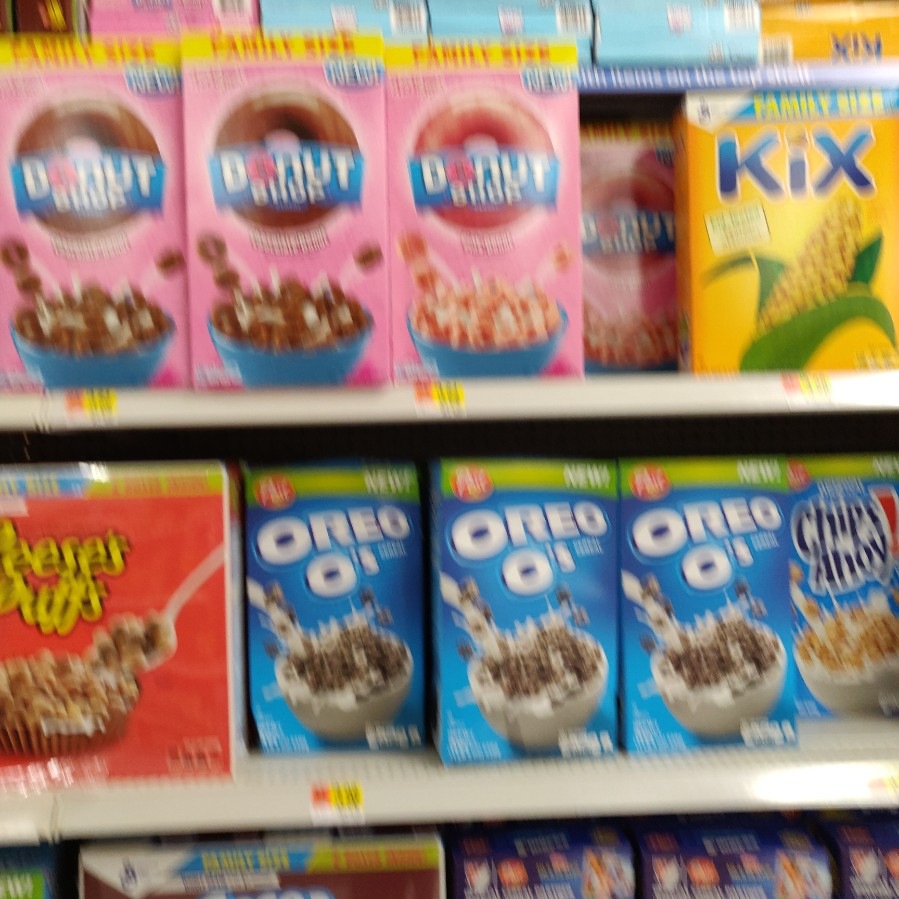Chips Ahoys-565717529: (791, 458, 899, 759)
Oreo-563424384: (436, 457, 630, 763), (244, 467, 432, 765), (626, 461, 799, 760)
